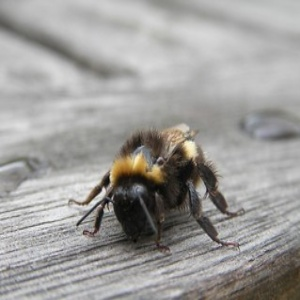bee: (70, 126, 247, 265)
